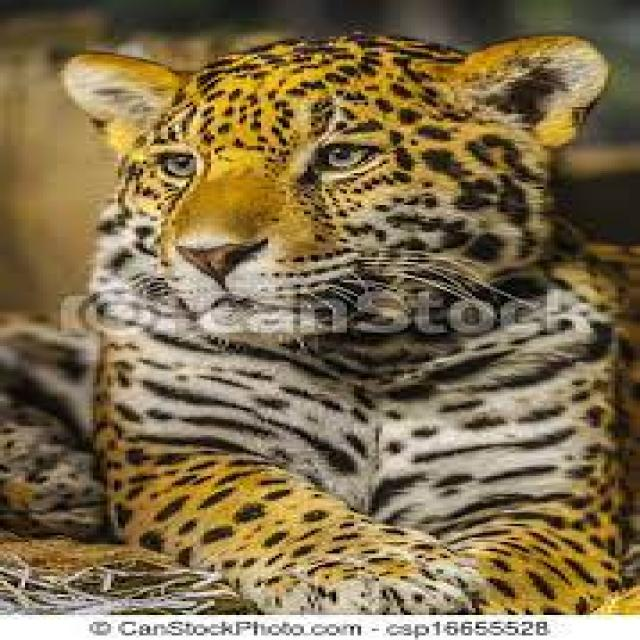Jaguar: (7, 34, 637, 615)
